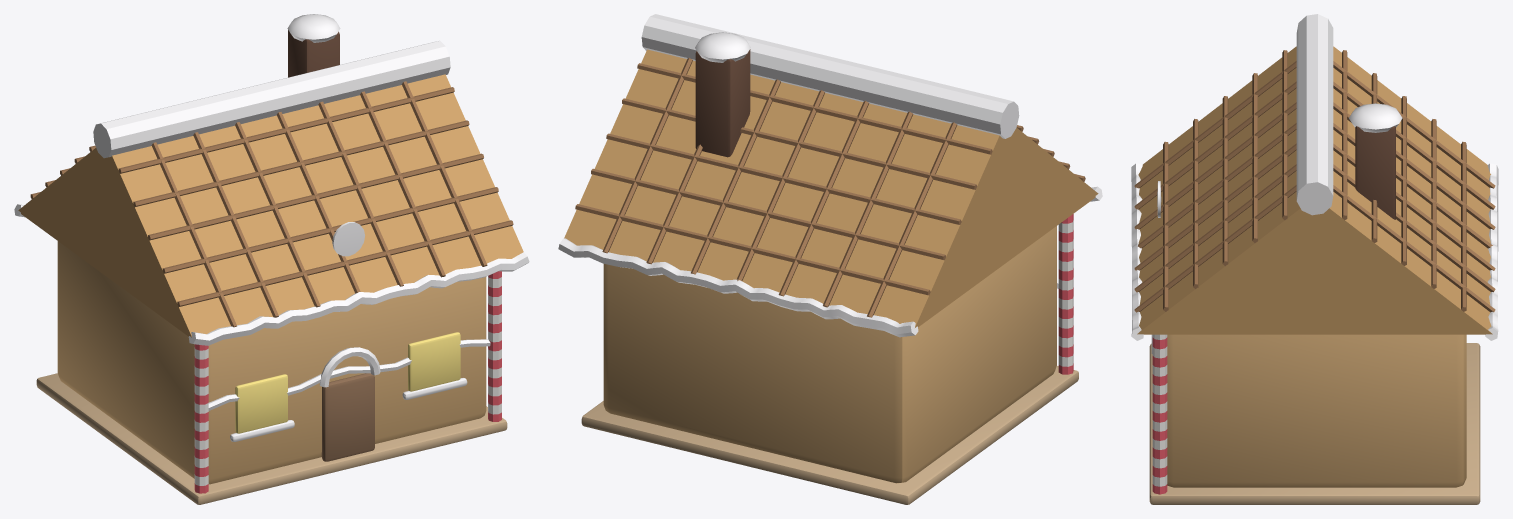
Rendered from GingerHouse_Cottage.fbx.
3 renders of one model, left to right at view 1: azimuth 30°, elevation 25°; view 2: azimuth 150°, elevation 25°; view 3: azimuth 270°, elevation 25°, orthographic. The views are drawn at different scales.
Parts seen in each view (by area): view 1: GingerHouse_Cottage; view 2: GingerHouse_Cottage; view 3: GingerHouse_Cottage.
Part boxes in pixels (box(x1,y1,x2,y2)): GingerHouse_Cottage: box(14, 14, 529, 504); GingerHouse_Cottage: box(558, 14, 1102, 504); GingerHouse_Cottage: box(1131, 14, 1498, 504).
Bounding box in the file's own units: 11.8 × 11.67 × 10.89.
